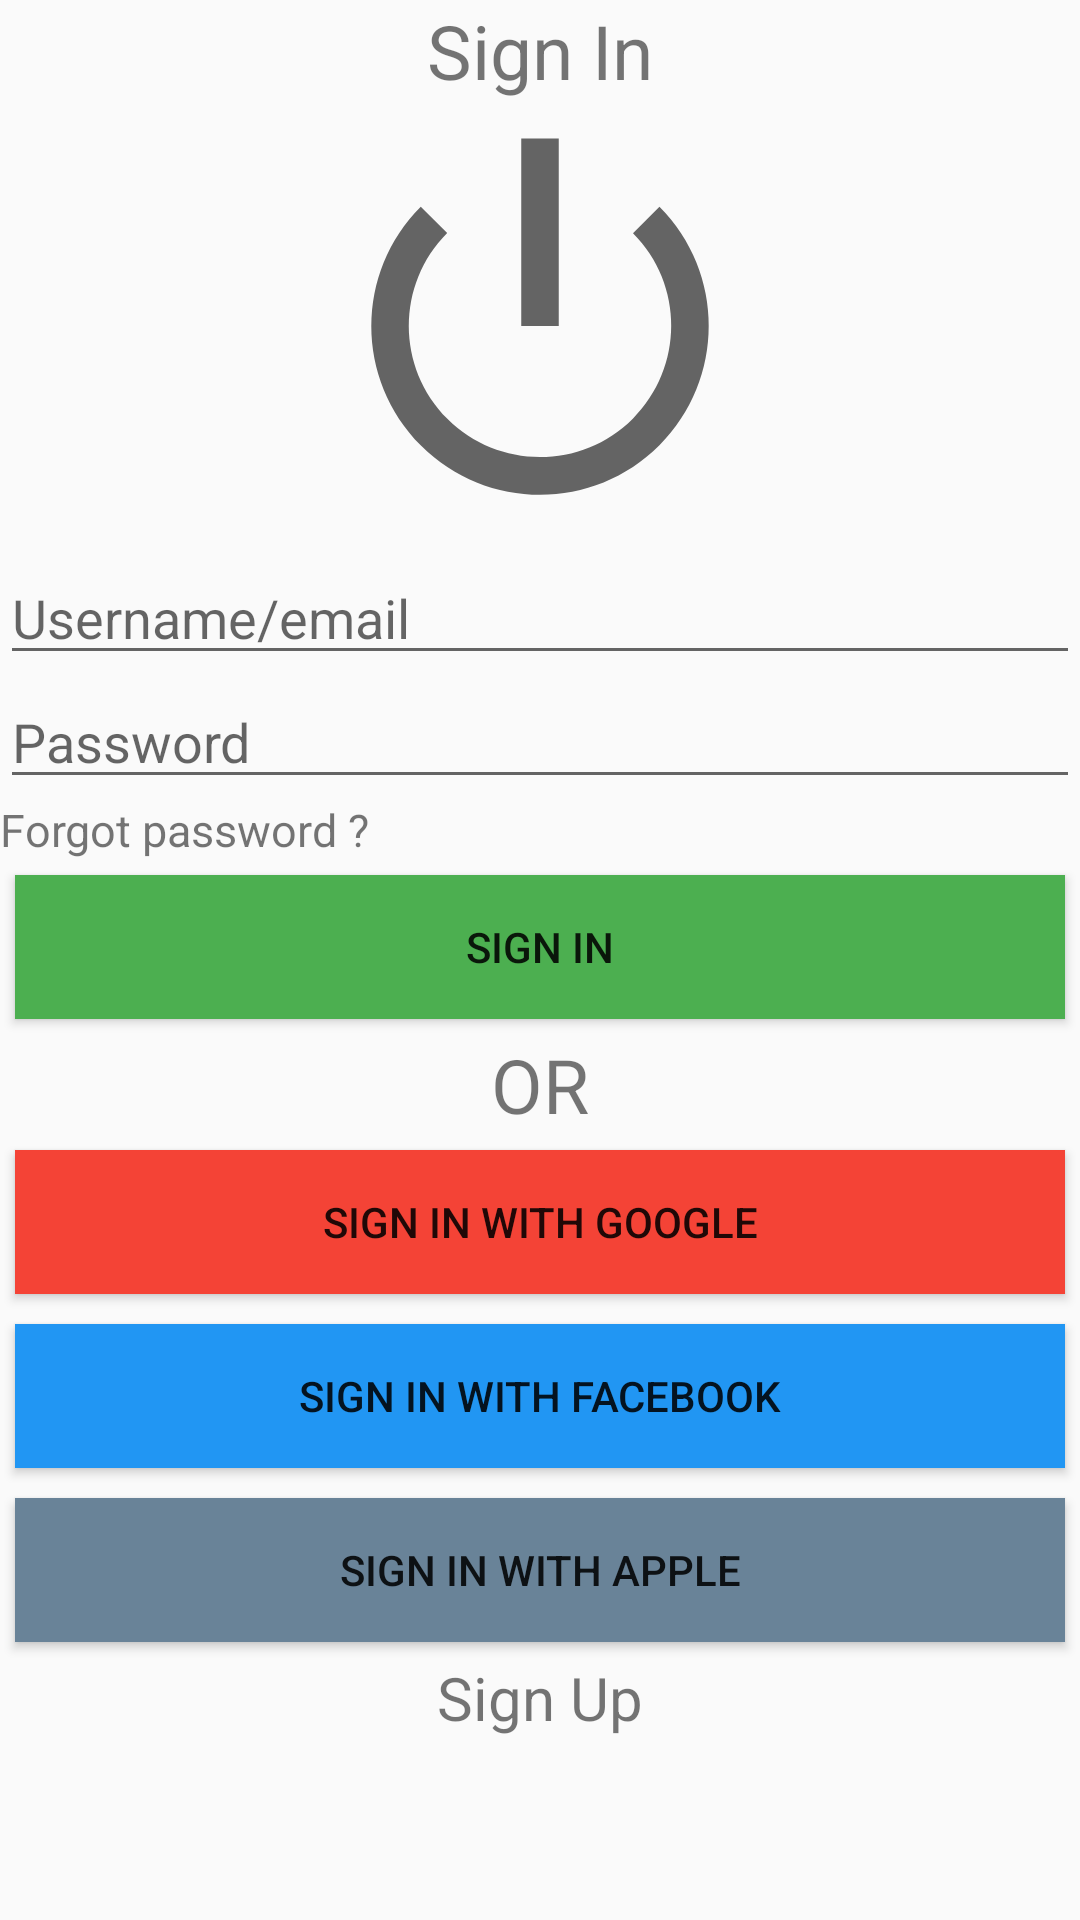

Where to tap for icons on this 1080px x 1920px app screen, as [x,y]:
lock power off: [540,316]
